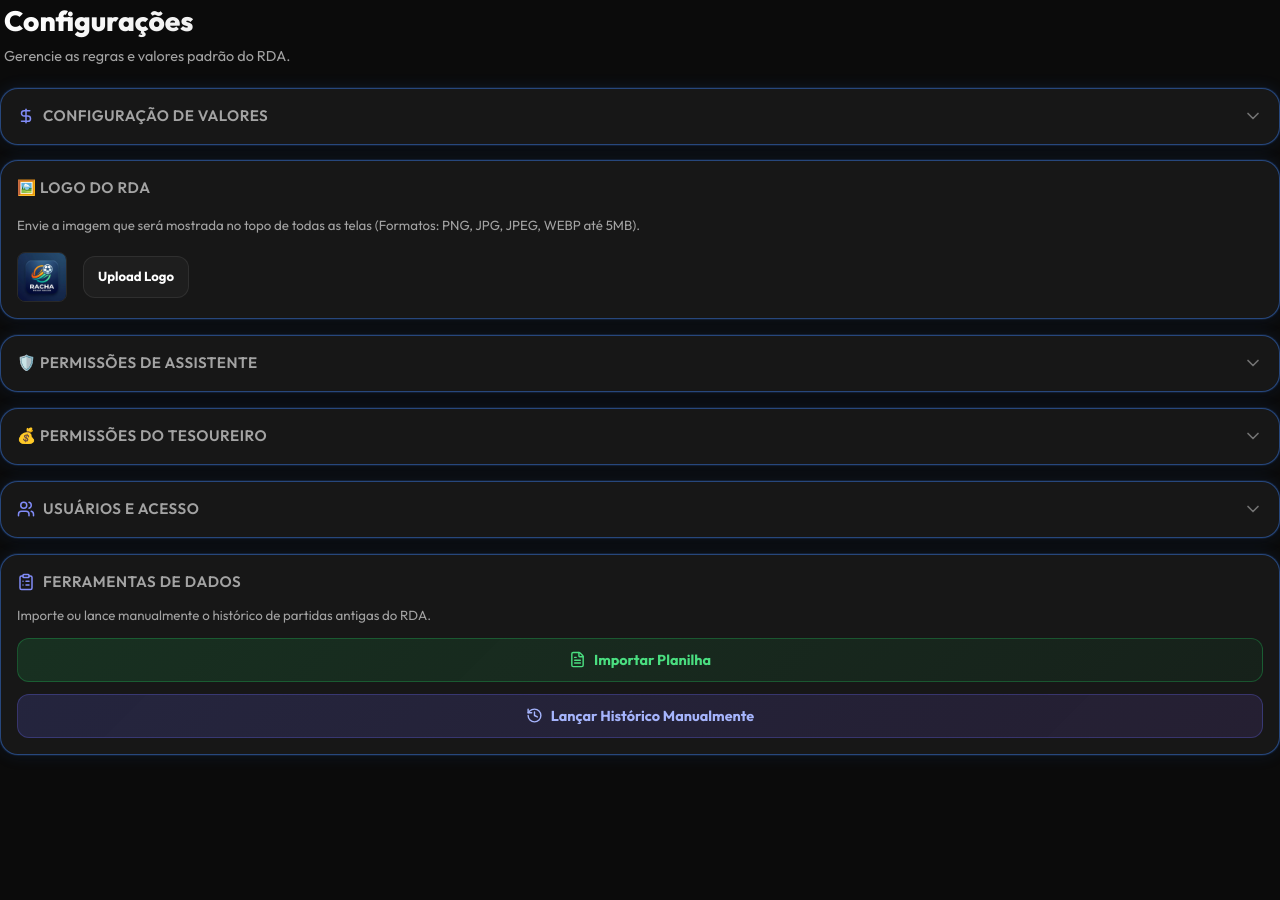
Scenario: RDA — Permissão de Leitura Financeira, Consolidado Dinâmico e Matriz do Tesoureiro › ETAPA 3 — Matriz Completa de Permissões para Tesoureiro em Configurações › deve exibir a matriz com as 16 permissões no accordion de Permissões do Tesoureiro
Click the text "💰 Permissões do Tesoureiro" at (142, 436), box [17,425,267,448]
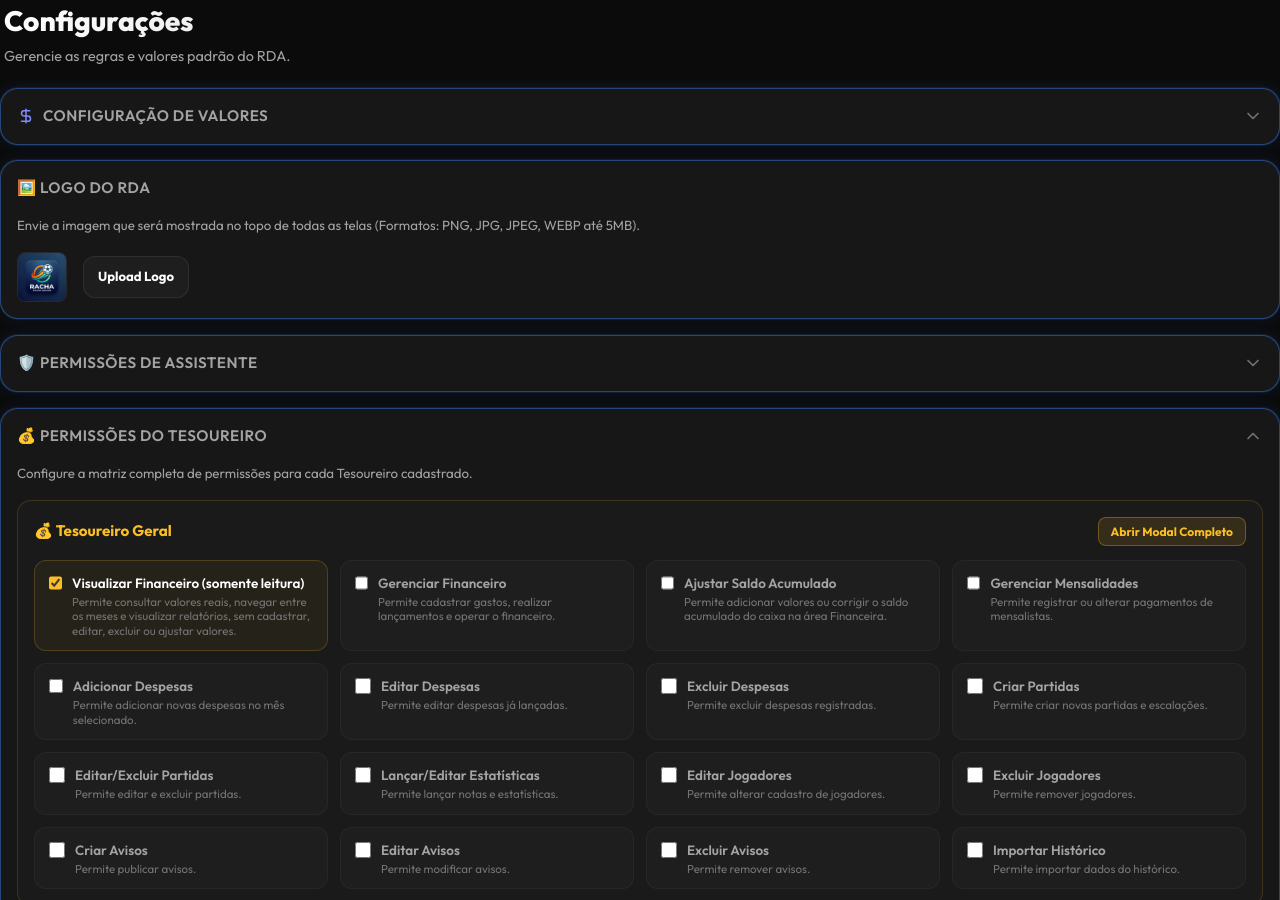
Expected: the text "Visualizar Financeiro (somente leitura)" is shown, [72,573,313,593]
Expected: the text "Gerenciar Financeiro" is shown, [378,575,506,591]
Expected: the text "Ajustar Saldo Acumulado" is shown, [684,575,836,591]
